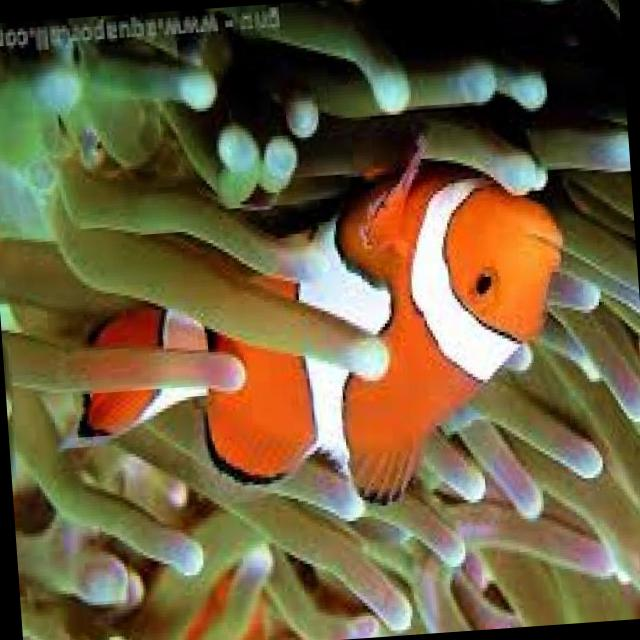ClownFish: (56, 138, 576, 526)
